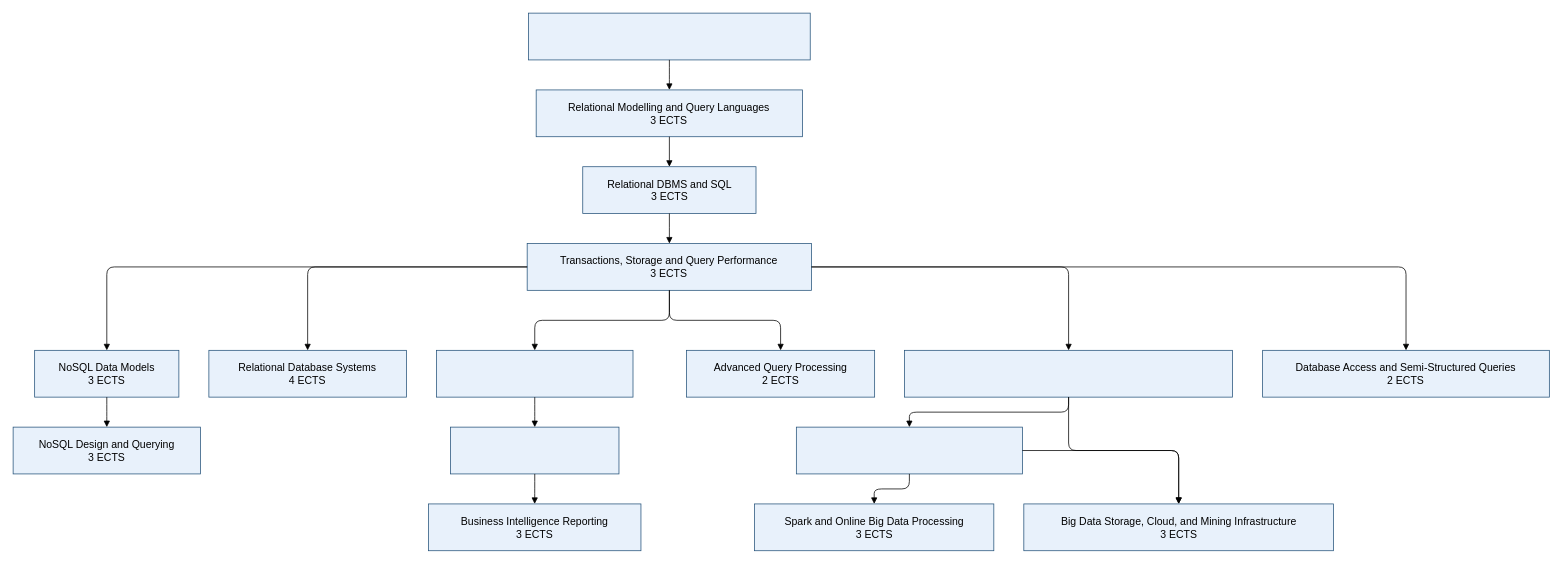
Some shapes in this 1563 by 564 pixel diagram are drawn without their labels. The shapes that lost their labels are listed below. From the top down, each one's centre as x and y in pixels, then its label:
[669,36]: Database Concepts and Conceptual Modelling 3 ECTS
[534,373]: Enterprise Data Management 3 ECTS
[1068,373]: Big Data Foundations and Data Platform Architectures 3 ECTS
[534,450]: Data Warehouse Design 2 ECTS
[909,450]: Hadoop and MapReduce Processing 3 ECTS
